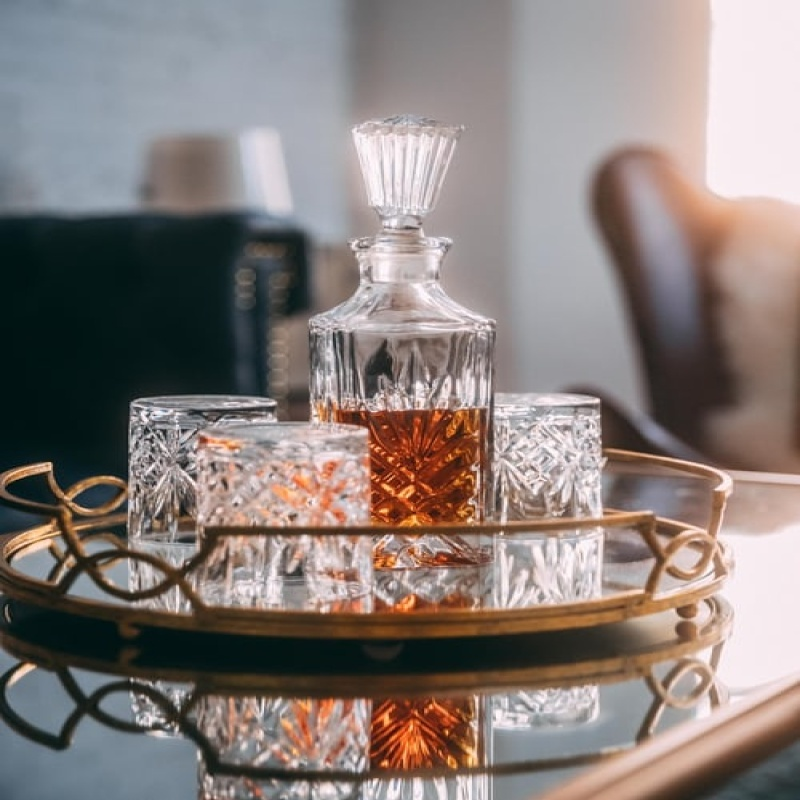whiskey: (195, 418, 375, 599), (480, 391, 608, 526)
